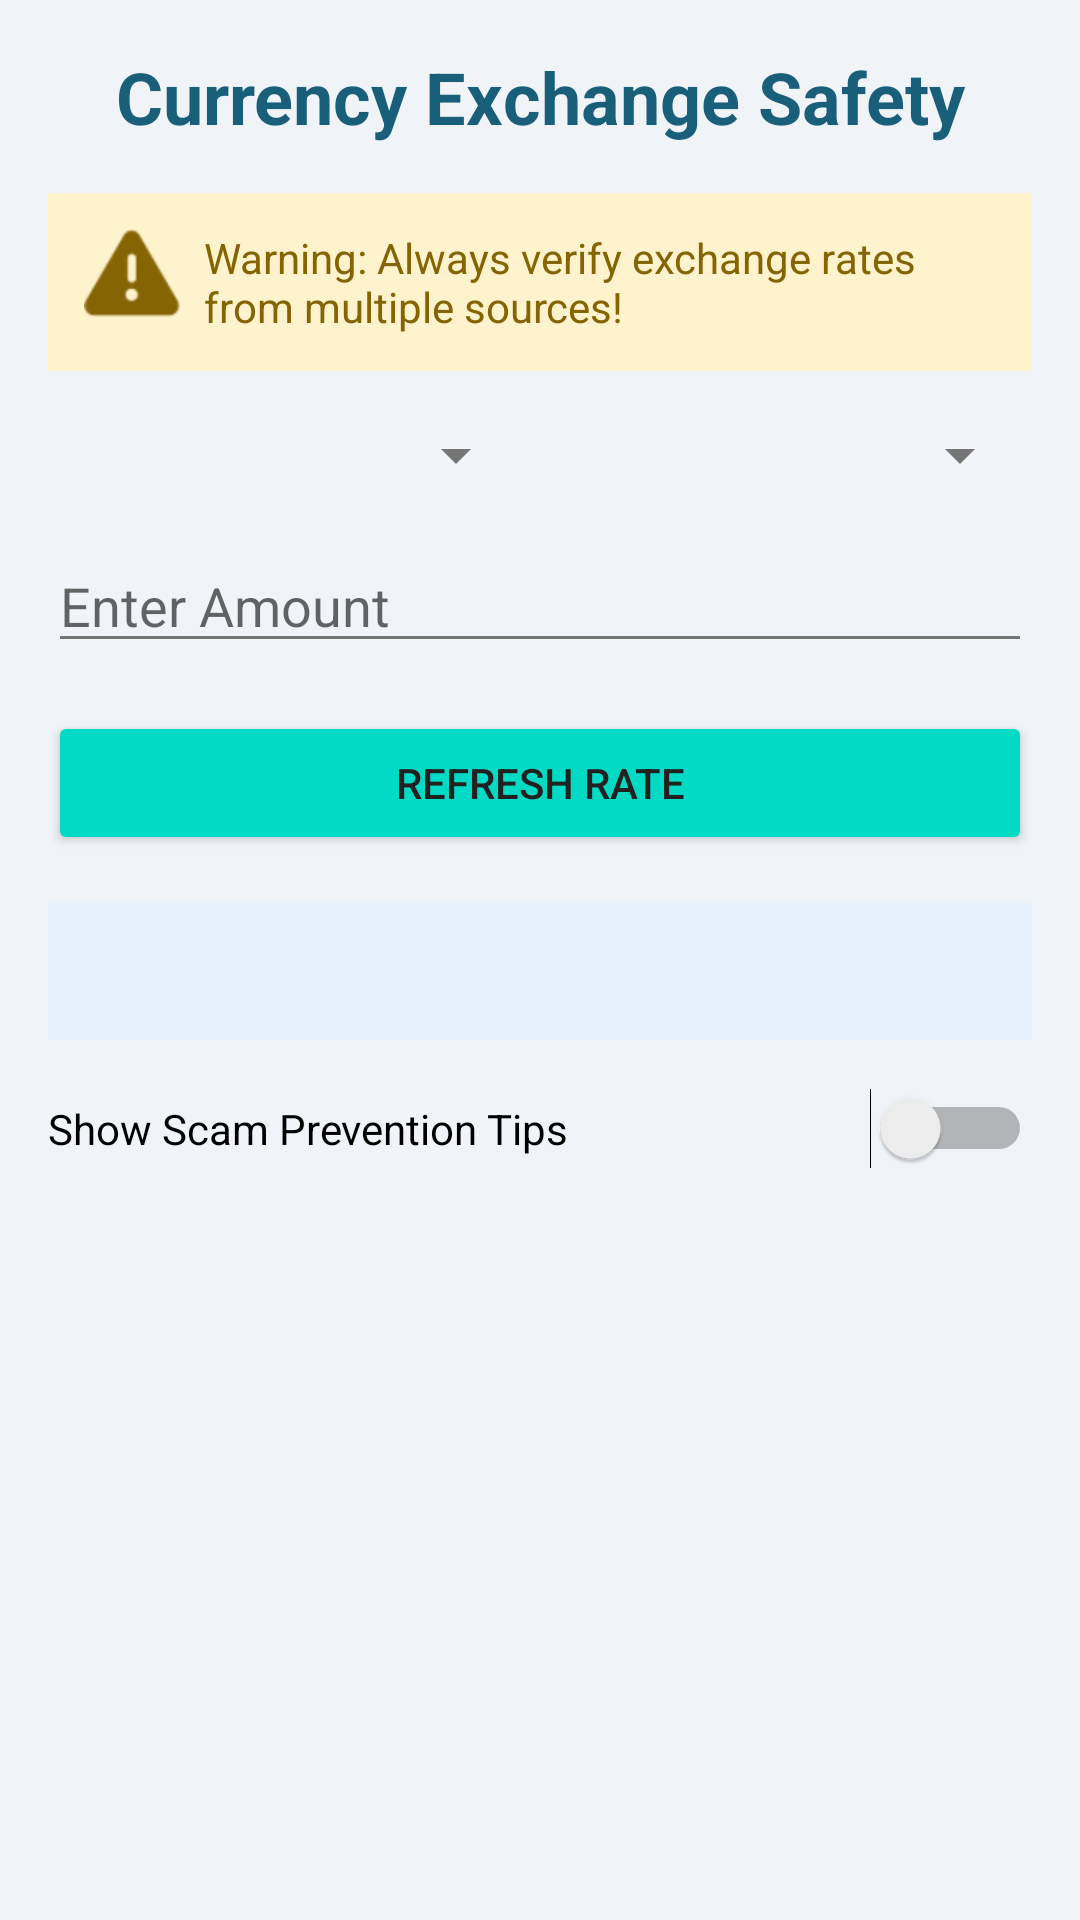

Named icons in this screenshot (1080×1920) and their centers, point (x, y):
alert: point (132, 273)
